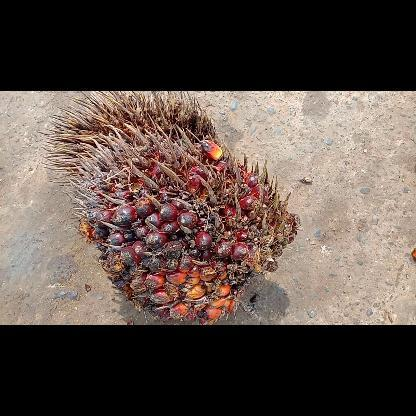Janjang kosong: (38, 90, 218, 184)
TBS masak: (68, 124, 300, 324)
